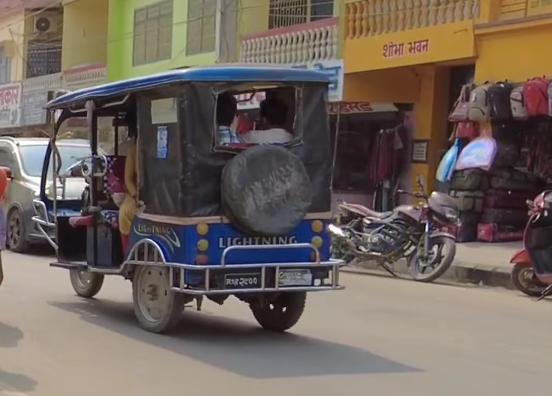bike: (326, 179, 464, 283)
e-rickshaw: (35, 45, 365, 338)
scooter: (507, 182, 552, 300)
